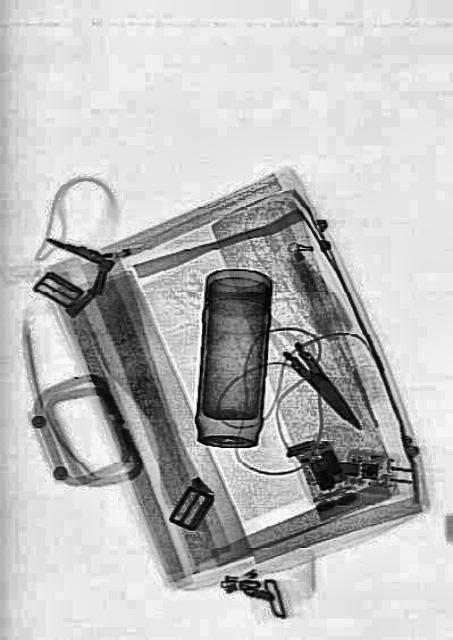Knife: (280, 336, 368, 438)
